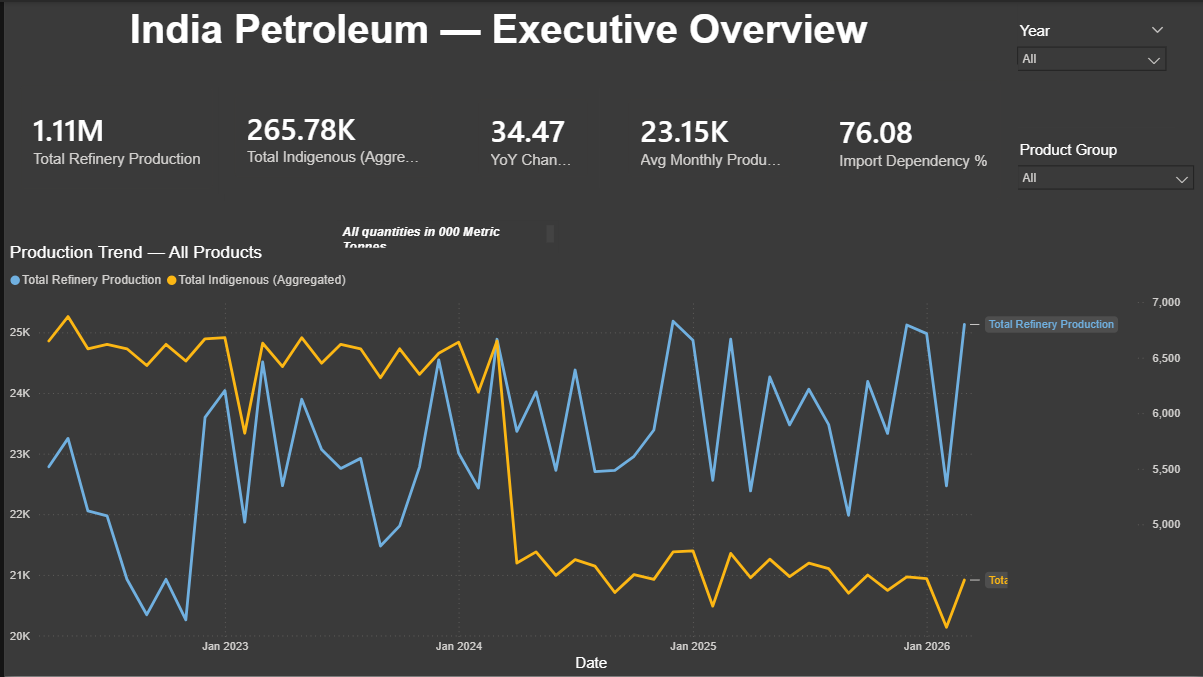

The dashboard page shown, as its layout file describes it:
{"tool":"powerbi","page":{"name":"Executive Overview","canvas":[1280,720],"ordinal":0},"visuals":[{"type":"cardVisual","fields":{"Data":["_Measures.Total Refinery Production"]},"box":[0,72.1,239.5,145.3],"z":0},{"type":"cardVisual","fields":{"Data":["_Measures.Total Indigenous (Aggregated)"]},"box":[227.9,81.4,245.3,123.3],"z":1000},{"type":"cardVisual","fields":{"Data":["_Measures.Avg Monthly Production"]},"box":[648.8,87.2,210.5,117.4],"z":2000},{"type":"lineChart","fields":{"Category":["DateTable.Date"],"Y":["_Measures.Total Refinery Production"],"Y2":["_Measures.Total Indigenous (Aggregated)"]},"box":[0,257,1261.6,462.8],"z":3000},{"type":"slicer","fields":{"Values":["DateTable.Year"]},"box":[1071.2,17.1,179.2,116.6],"z":4000},{"type":"slicer","fields":{"Values":["FactRefinery.Product Group"]},"box":[1071.2,143.7,209.1,89.6],"z":5000},{"type":"textbox","box":[128,0,953.1,91],"z":6000},{"type":"textbox","box":[1071,568,209,151],"z":7000},{"type":"textbox","box":[355.6,233.3,236.1,34.1],"z":8000},{"type":"cardVisual","fields":{"Data":["_Measures.Import Dependency %"]},"box":[860.5,66.3,220.9,160.5],"z":9000},{"type":"cardVisual","fields":{"Data":["_Measures.YoY Change %"]},"box":[488.4,87.2,160.5,117.4],"z":10000}]}

Visuals, with their boxes in screenshot pixels (x1, y1, x2, y2), scaled from the page's 1280x720 canvas onto the 1203x677 screenshot:
cardVisual - _Measures.Total Refinery Production: <box>0,68,225,204</box>
cardVisual - _Measures.Total Indigenous (Aggregated): <box>214,77,445,192</box>
cardVisual - _Measures.Avg Monthly Production: <box>610,82,808,192</box>
lineChart - DateTable.Date x _Measures.Total Refinery Production: <box>0,242,1186,676</box>
slicer - DateTable.Year: <box>1007,16,1175,126</box>
slicer - FactRefinery.Product Group: <box>1007,135,1202,219</box>
textbox: <box>120,0,1016,86</box>
textbox: <box>1007,534,1202,676</box>
textbox: <box>334,219,556,251</box>
cardVisual - _Measures.Import Dependency %: <box>809,62,1016,213</box>
cardVisual - _Measures.YoY Change %: <box>459,82,610,192</box>
